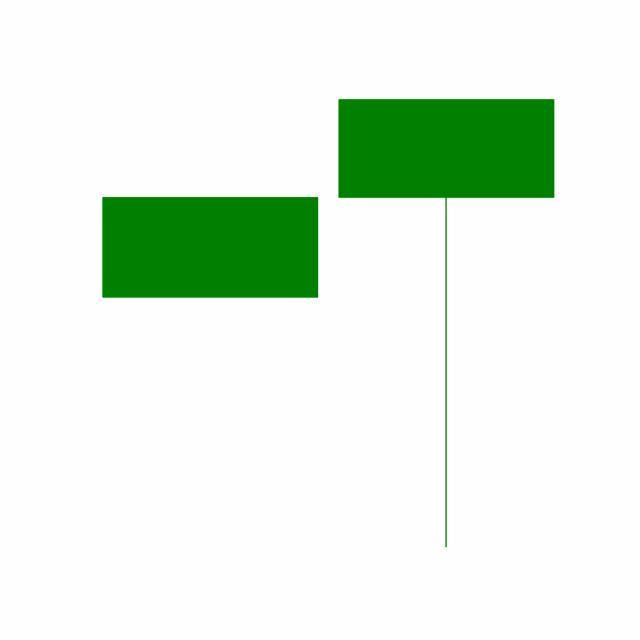Hanging Man: (328, 95, 566, 553)
